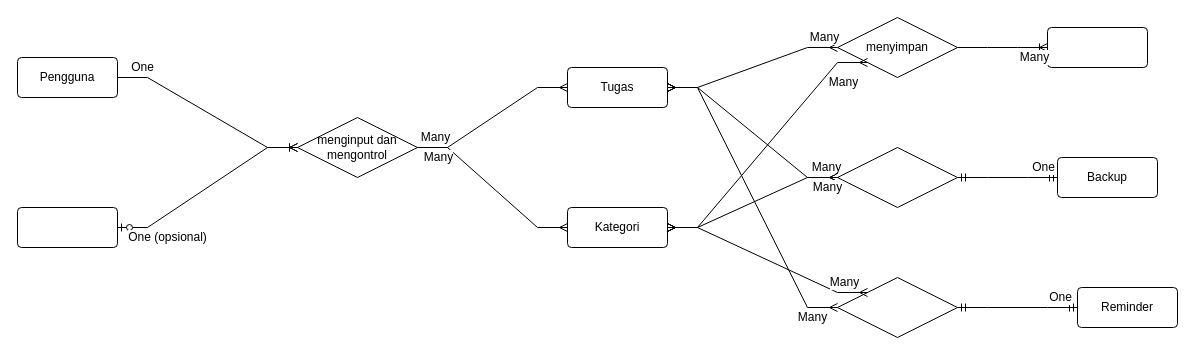
This 1195x355 diagram has some shape labels left out. The shapes that lost their labels are listed below. From the top down, each one's box as (x1, y1, x2, y2) in pixels, then its label:
(1046, 26, 1148, 68): Log Aktifitas
(836, 146, 958, 208): memberikan
(16, 206, 118, 248): Admin
(836, 276, 958, 338): memiliki
